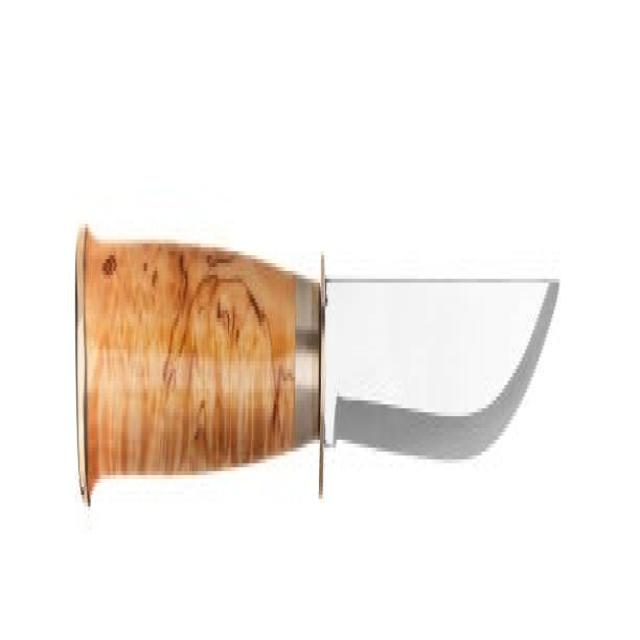knife: (70, 204, 565, 532)
